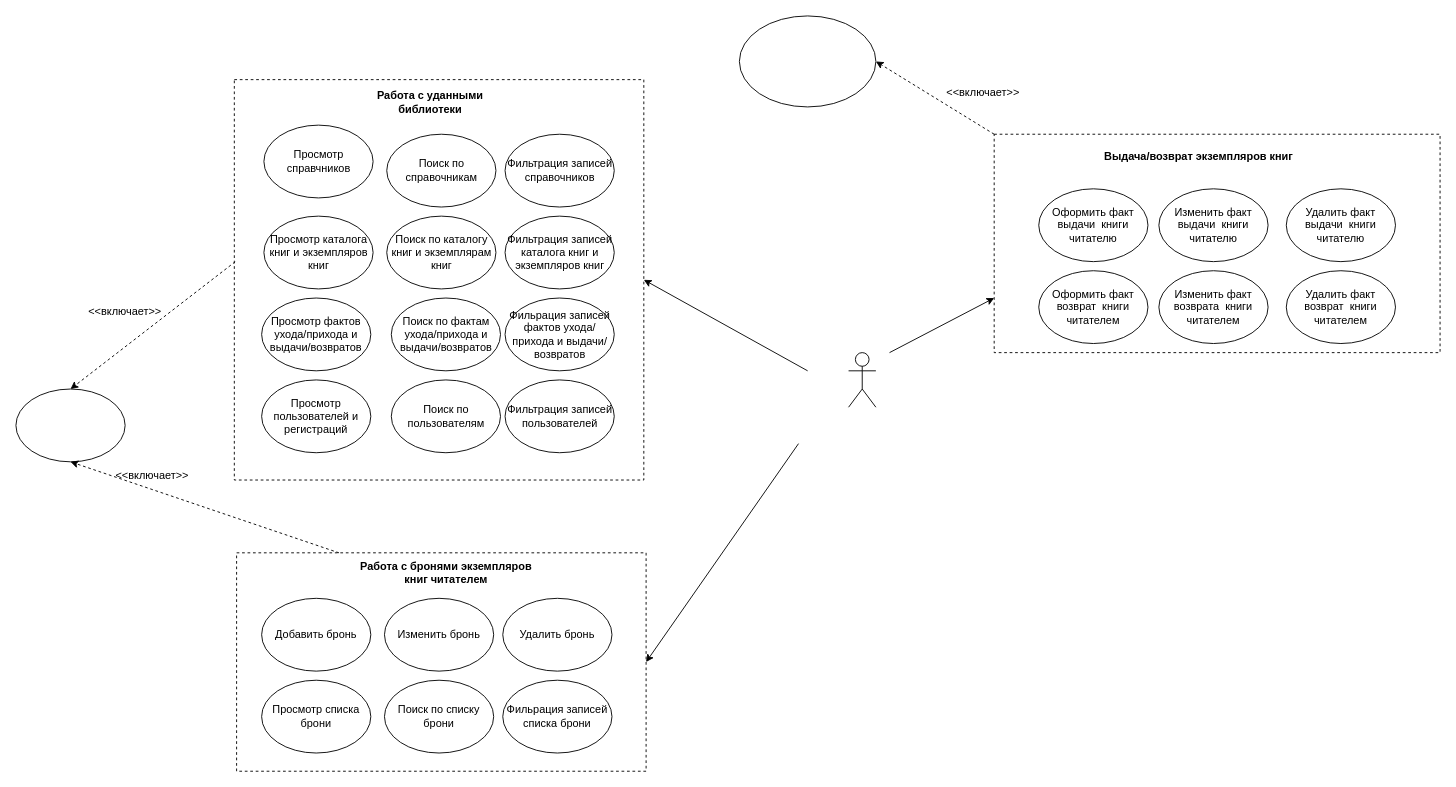
This 1456x787 diagram has some shape labels left out. The centre of each missing label's shape, as x and y in pixels:
"Ввести информацию о состоянии экземпляра книги" belongs at [807,61].
"Стажёр библиотекаря" belongs at [862,379].
"Упрощённая выгрузка списков в Excel для анализа" belongs at [70,425].
